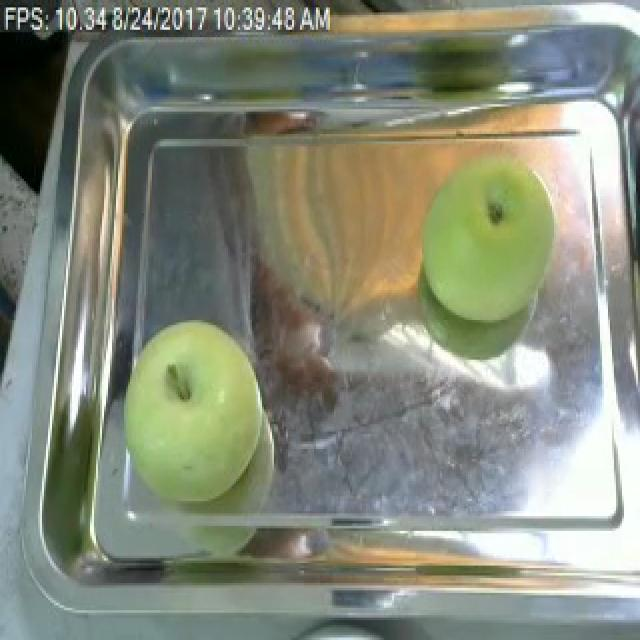50-_ripeness: (414, 127, 569, 332), (121, 313, 270, 504)
